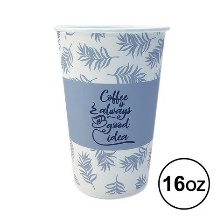paper_cup: (46, 19, 174, 203)
